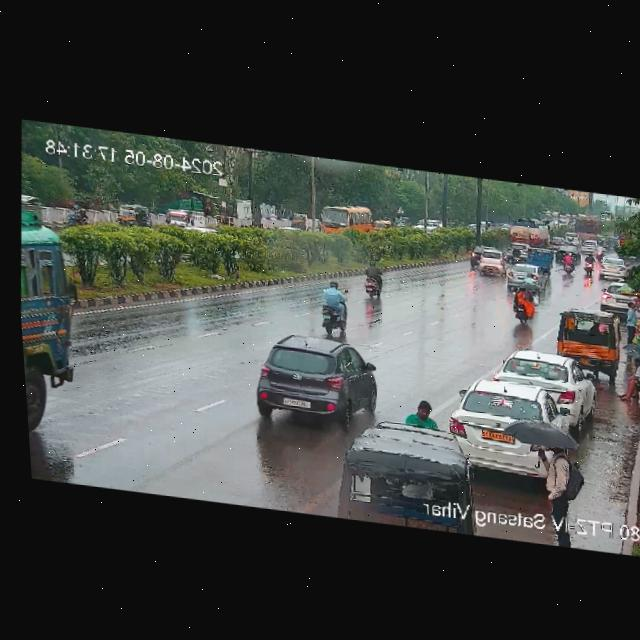bus: (314, 198, 376, 238)
car: (334, 417, 474, 535), (264, 332, 381, 434), (451, 376, 556, 480), (488, 345, 597, 422), (555, 310, 620, 361), (614, 355, 640, 407), (502, 265, 547, 295), (112, 199, 150, 228), (596, 253, 629, 281), (526, 245, 554, 269), (559, 249, 571, 274)
motorcycle: (310, 278, 353, 338), (356, 259, 388, 303), (510, 286, 536, 324), (475, 245, 507, 274), (580, 250, 598, 277)
person: (537, 441, 584, 538), (618, 294, 640, 348), (406, 401, 439, 427)
truck: (13, 194, 86, 442), (502, 214, 551, 245), (573, 212, 606, 238)
